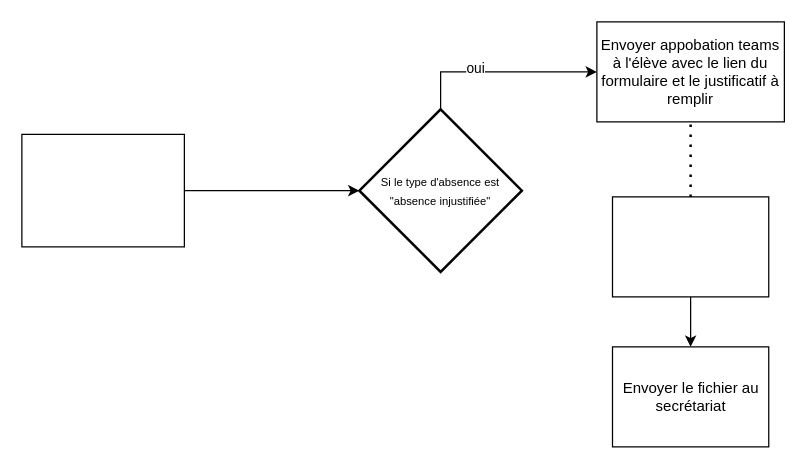
This 806x469 diagram has some shape labels left out. The box of each missing label's shape, as (x1, y1, x2, y2) in pixels:
Quand un item est crée dans la liste "absences": (21, 133, 184, 247)
Quand une réponse du forms est envoyée: (611, 196, 769, 297)
